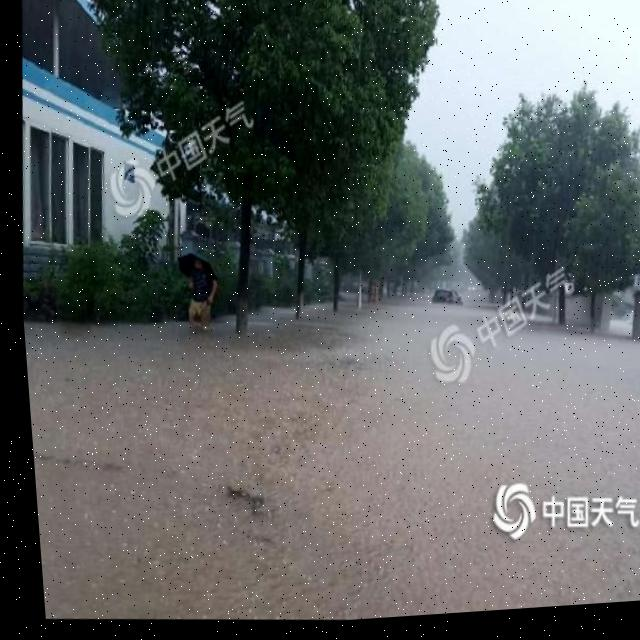civilian: (176, 246, 226, 342)
